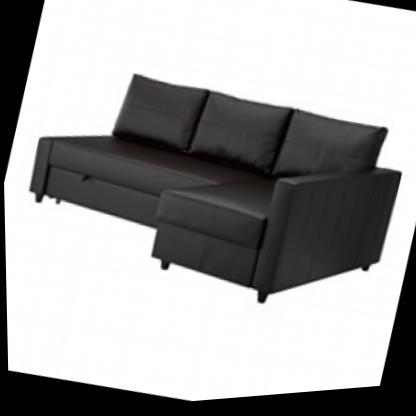Sofa: (1, 9, 416, 353)
